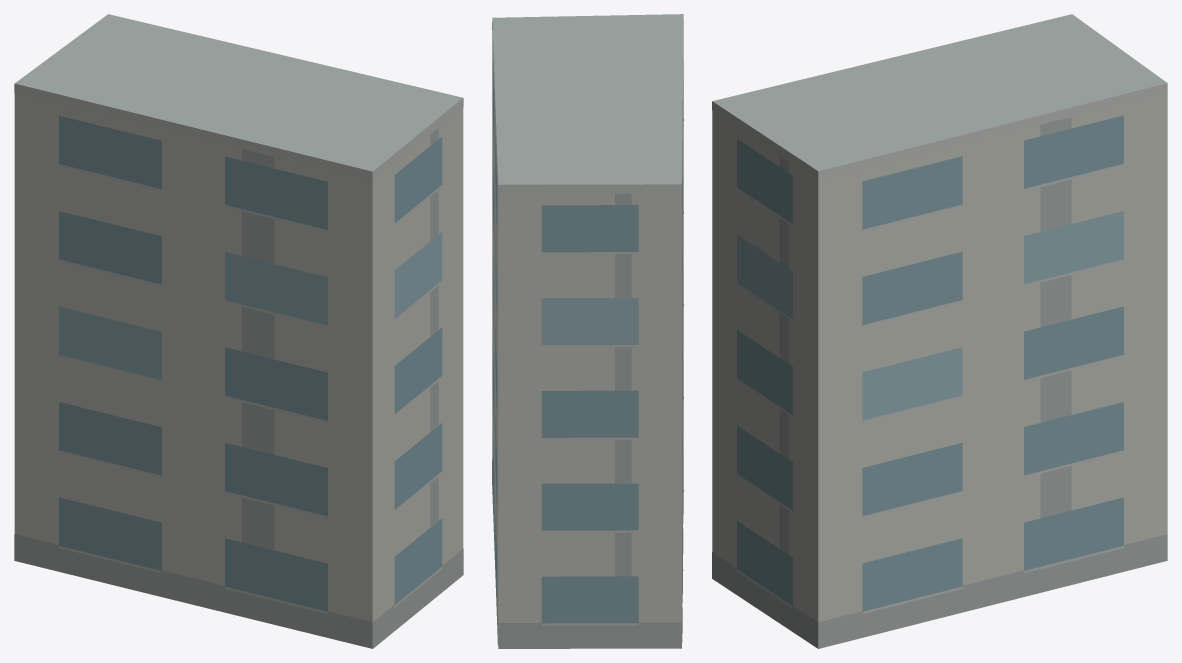
The model's file is survey-upis-33032173.glb.
3 renders of one model, left to right at view 1: azimuth 30°, elevation 25°; view 2: azimuth 150°, elevation 25°; view 3: azimuth 270°, elevation 25°, orthographic. The views are drawn at different scales.
Parts seen in each view (by area): view 1: survey-upis-33032173.tmp; view 2: survey-upis-33032173.tmp; view 3: survey-upis-33032173.tmp.
Part boxes in pixels (x1,y1,x2,y2): survey-upis-33032173.tmp: (14,14,463,648); survey-upis-33032173.tmp: (492,14,683,648); survey-upis-33032173.tmp: (712,14,1167,648).
Size of the model in its own units: 8.55 by 12.1 by 10.47.
